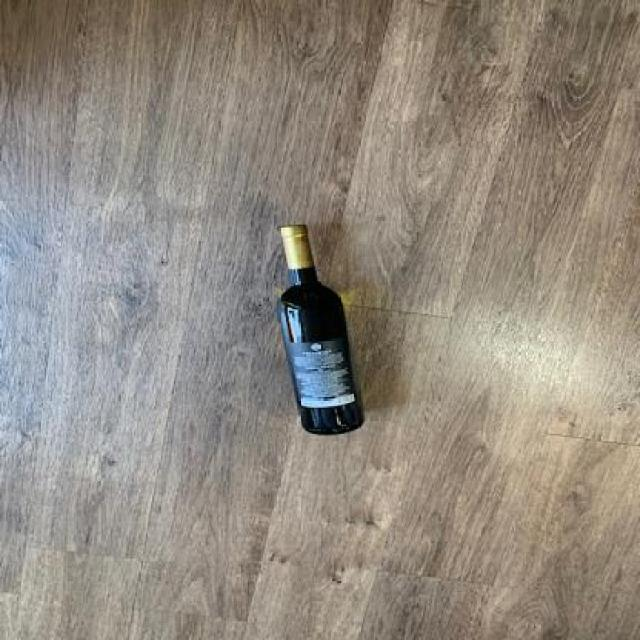trash: (275, 221, 374, 439)
